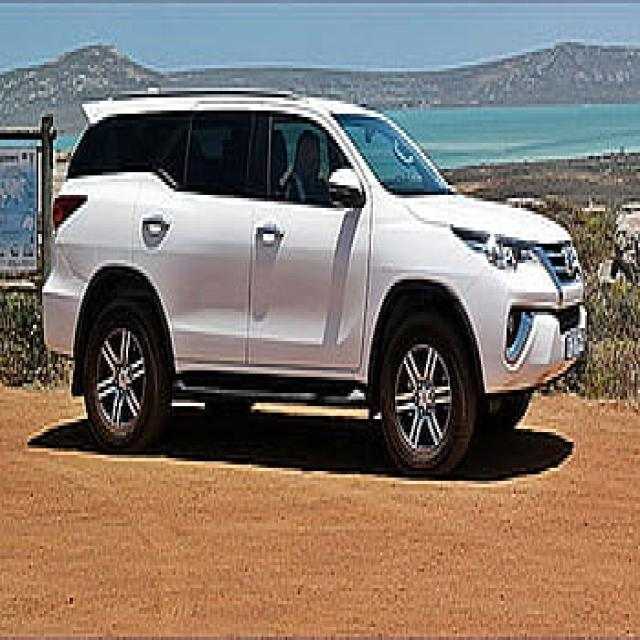light_vehicle: (42, 93, 589, 479)
